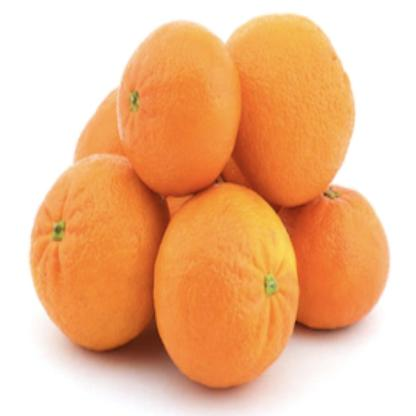fresh: (32, 18, 390, 396)
